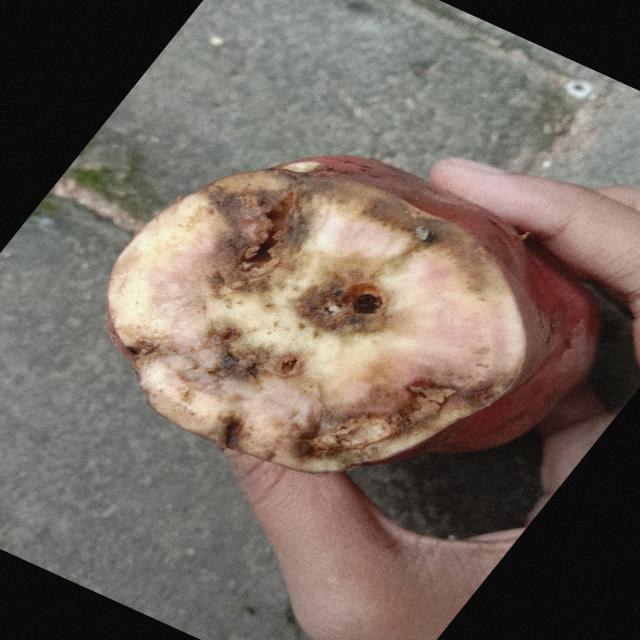Sick Sweet Potato_Tuber Rot: (108, 156, 550, 471)
